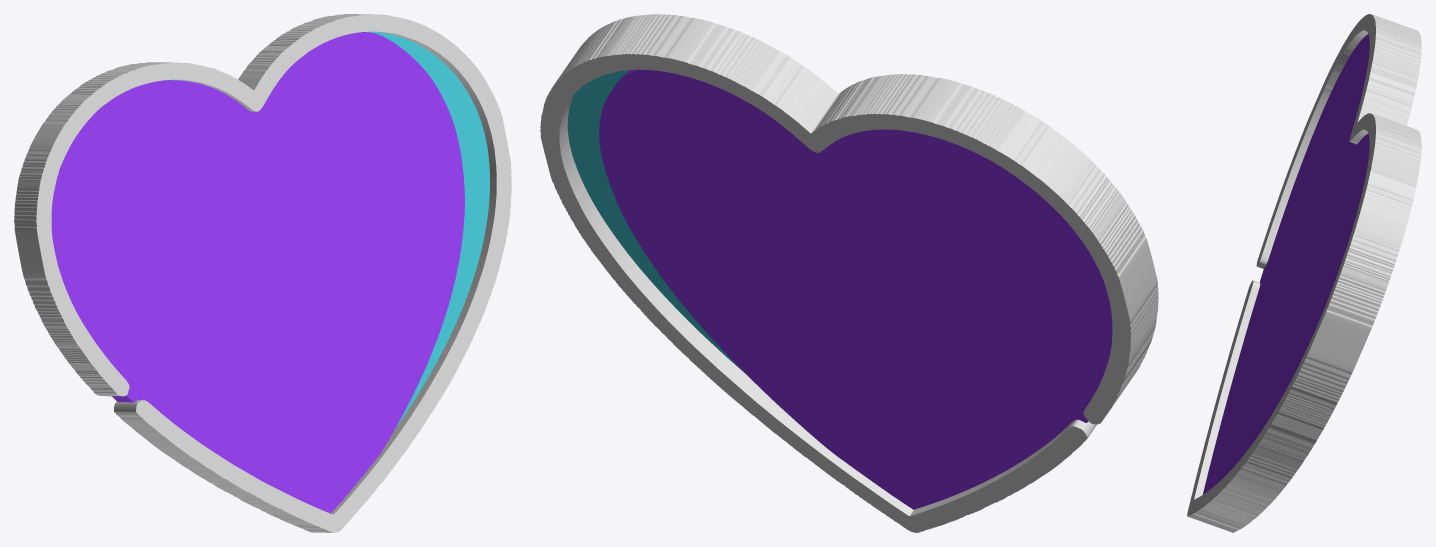
Rendered from Romance.gltf.
3 renders of one model, left to right at view 1: azimuth 30°, elevation 25°; view 2: azimuth 150°, elevation 25°; view 3: azimuth 270°, elevation 25°, orthographic. The views are drawn at different scales.
Visible parts, largest first — view 1: path1, path0, path2; view 2: path1, path0, path2; view 3: path0, path1.
Boxes of the visible parts, x1,y1,x2,y2 form: path1: (51, 32, 464, 513); path0: (14, 14, 511, 532); path2: (138, 31, 489, 430); path1: (599, 69, 1112, 509); path0: (540, 14, 1158, 532); path2: (567, 70, 744, 372); path0: (1187, 14, 1421, 532); path1: (1203, 34, 1369, 494).
Bounding box in the file's own units: 0.1128 × 0.1016 × 0.0478.
